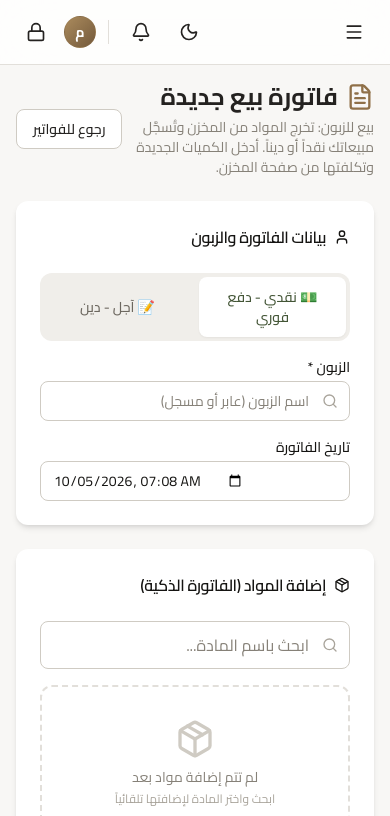
Test case: سلة المواد — تخطيط متجاوب لا يقصّ الأرقام › في الفاتورة: الحقول تأخذ نصف العرض على الجوال وتبقى 12 عموداً على الأوسع
The width and height of the screenshot is (390, 816).
Step 1. Type "سماد يوريا" into the field with placeholder "ابحث باسم المادة..." → (195, 645), box [40, 621, 350, 669]
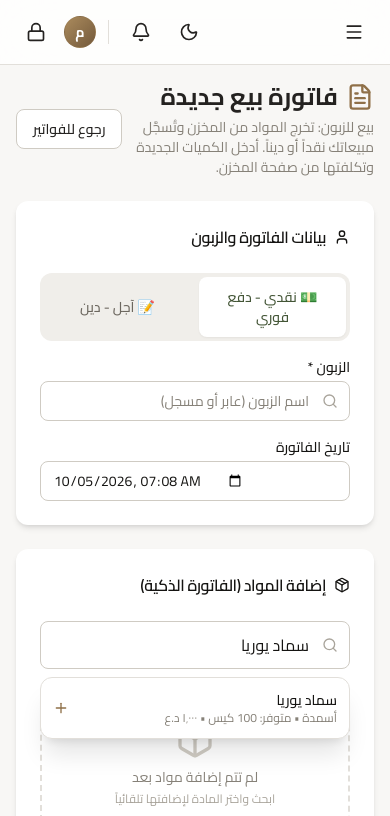
Step 2. Click the text "سماد يوريا" → (307, 700), box [276, 687, 337, 713]
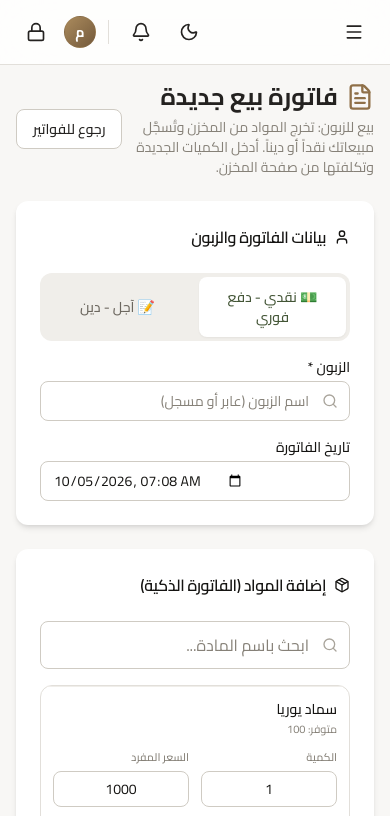
Now the text "الكمية" is shown, box [306, 747, 337, 767]
Now the text "السعر المفرد" is shown, box [131, 747, 189, 767]
